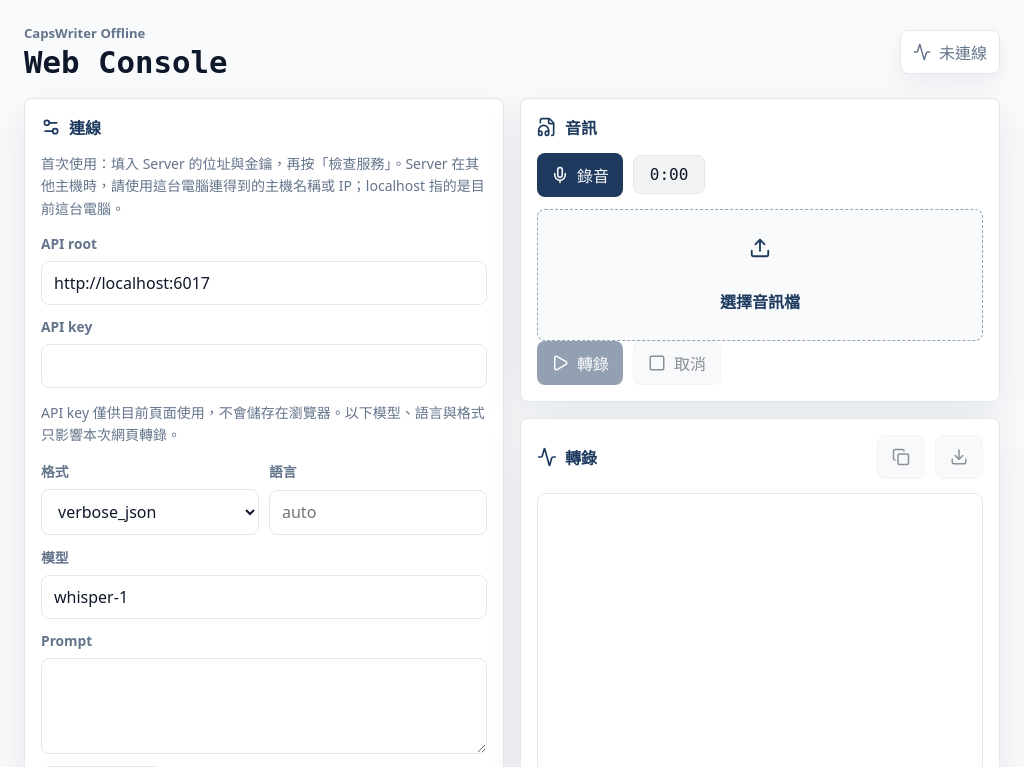
Test: App › stops active recording resources on unmount
Click the button "錄音" at [580, 175], box [537,153,623,197]
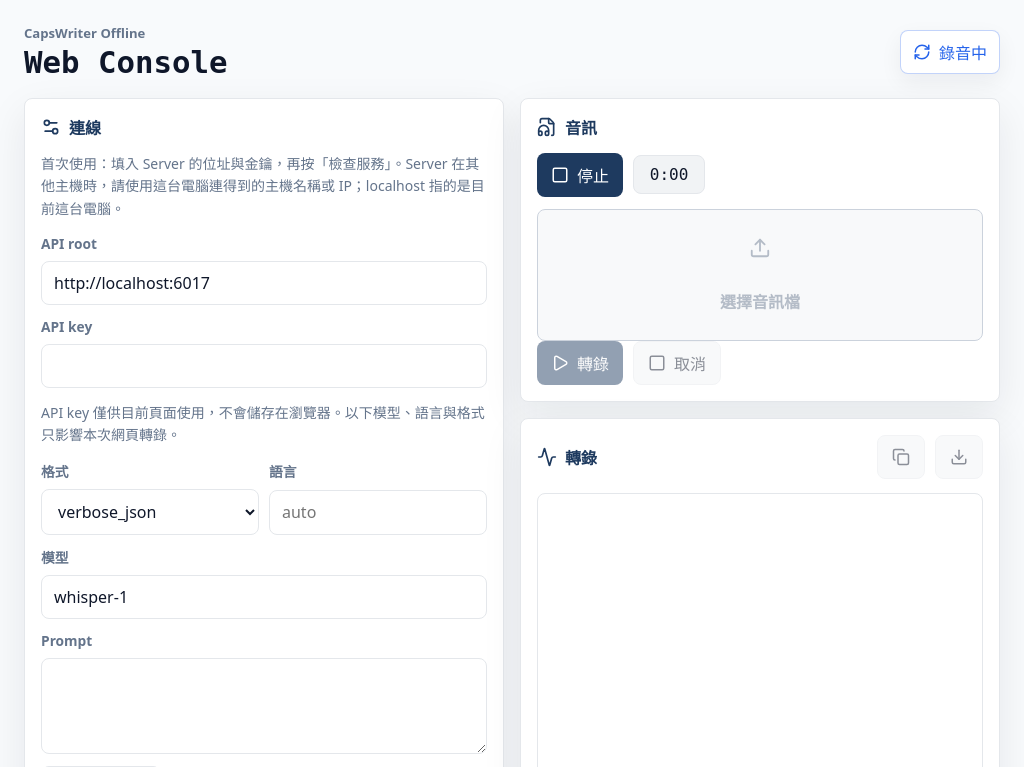
Result: the text "錄音中" is shown at [939,40,987,64]
